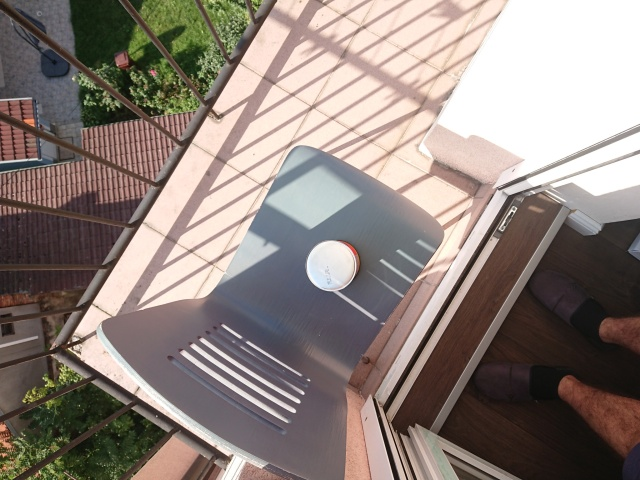Nescafe Classic 225g: (302, 236, 364, 294)
